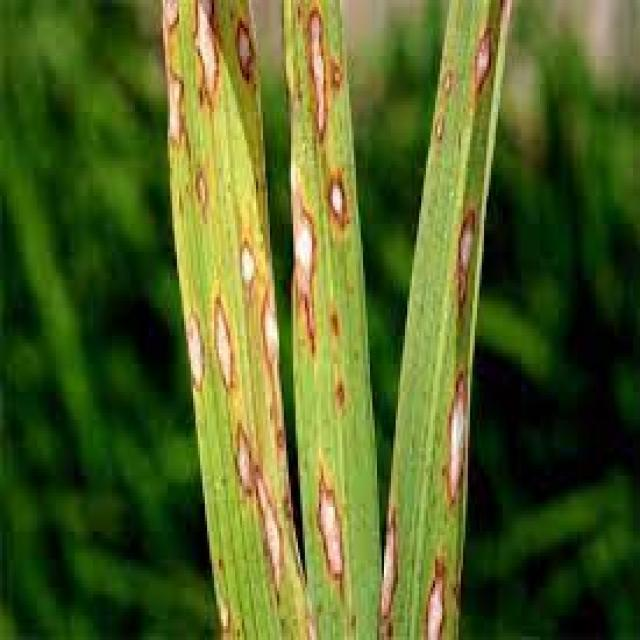Leaf_Blast: (298, 15, 368, 235), (309, 417, 359, 604), (277, 191, 330, 351), (437, 188, 482, 322), (251, 462, 287, 617), (434, 380, 472, 521), (455, 18, 499, 130), (416, 59, 459, 162), (191, 0, 229, 110), (236, 12, 268, 139), (204, 301, 246, 394), (180, 292, 214, 404), (209, 527, 245, 627), (383, 498, 410, 631), (422, 545, 453, 633), (164, 70, 194, 153), (229, 223, 262, 288), (180, 159, 214, 218), (254, 308, 285, 366), (230, 422, 258, 481), (156, 0, 190, 42)
